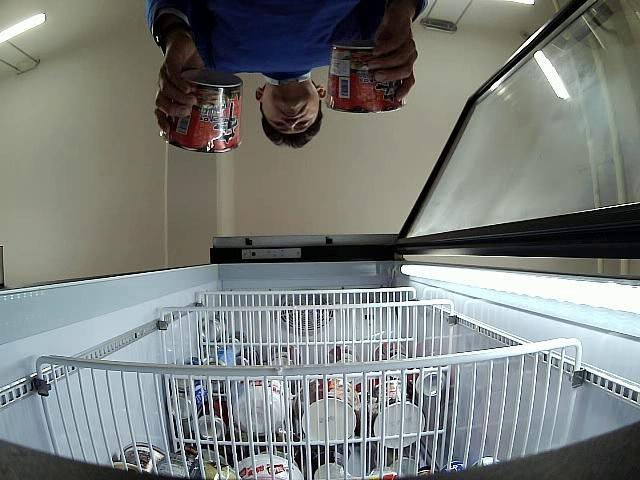01_ShinRamen_L: (160, 66, 242, 154), (324, 42, 404, 114)
